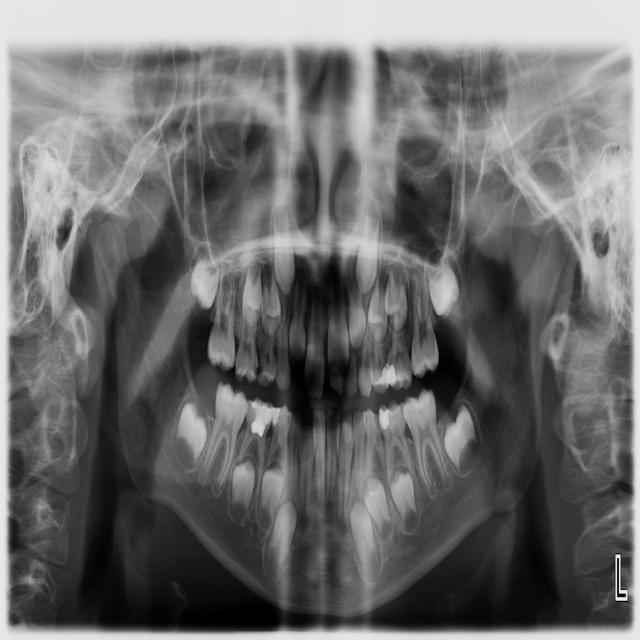mandibula: (93, 221, 566, 614)
